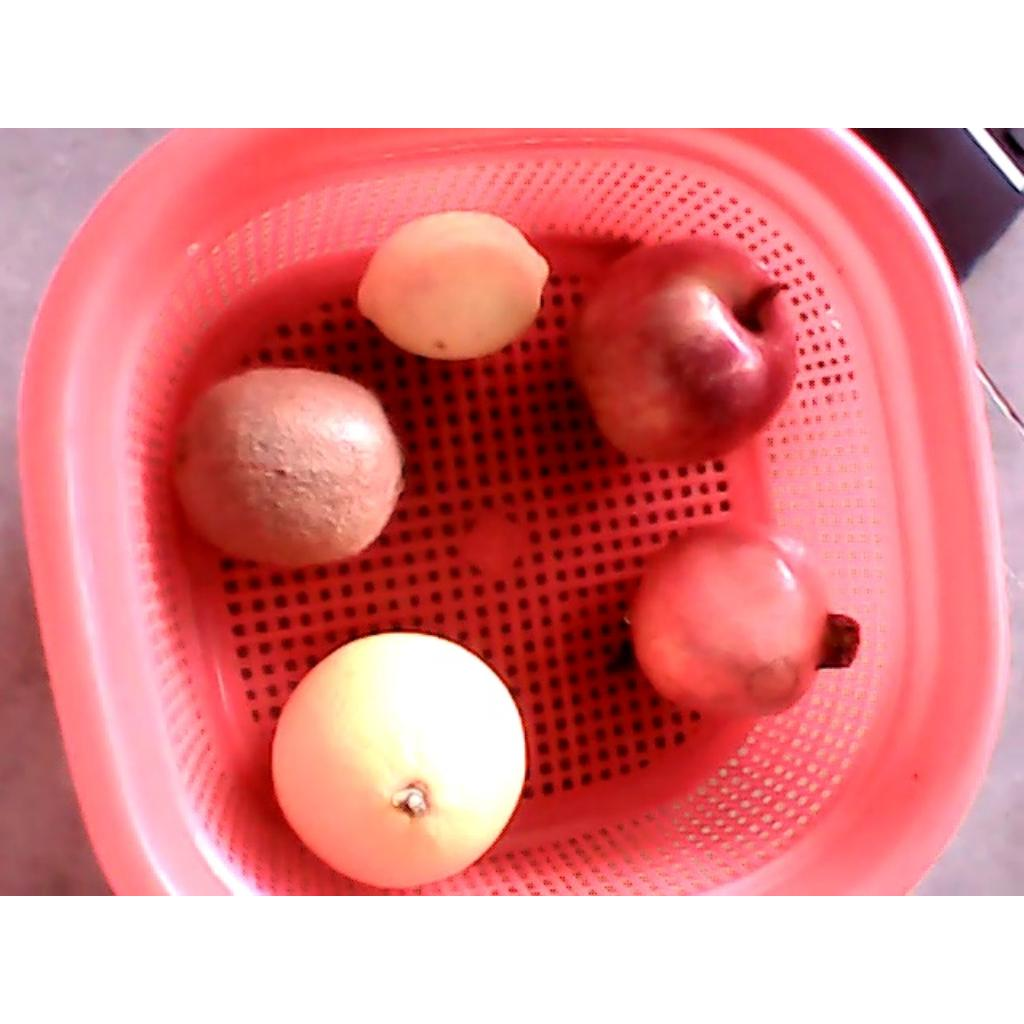apple: (569, 237, 803, 463)
kiwi: (169, 368, 407, 568)
lemon: (357, 214, 551, 362)
orange: (271, 628, 529, 890)
pomegranate: (632, 521, 863, 723)
